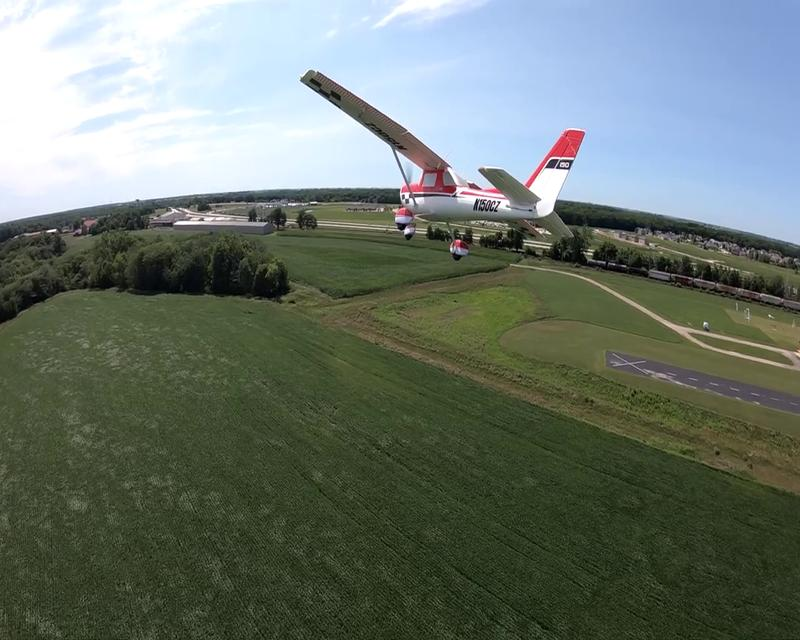UAV: (299, 70, 586, 260)
